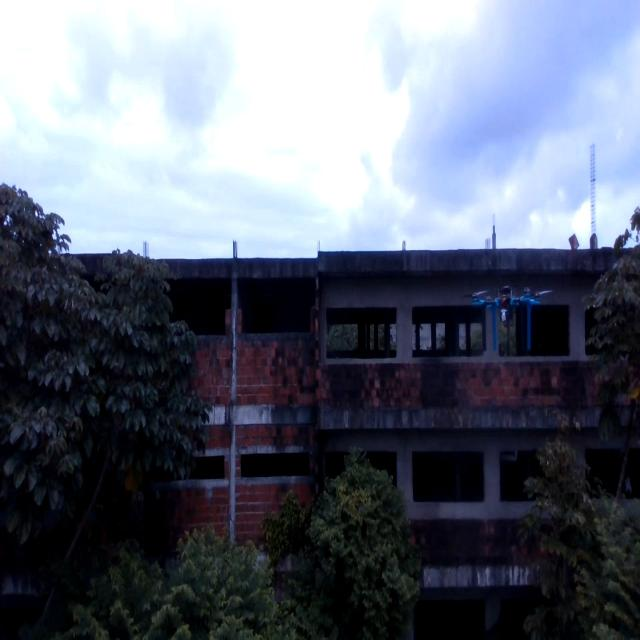-uav-: (464, 274, 563, 353)
